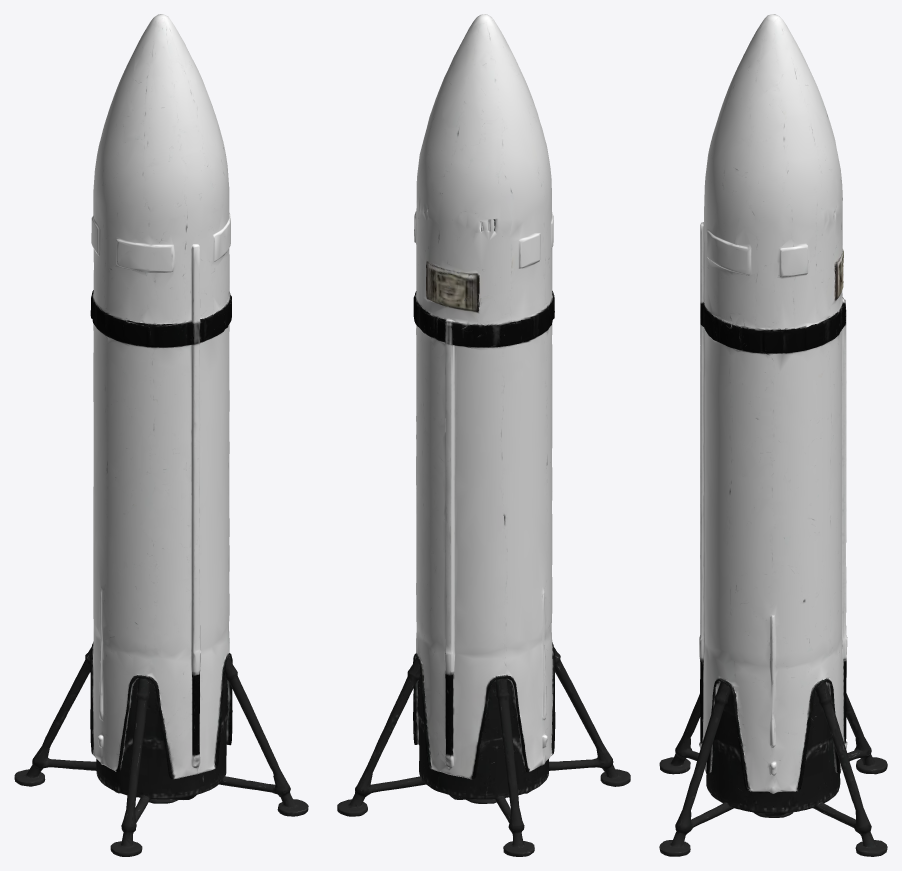
Rendered from starship_hls.glb.
3 renders of one model, left to right at view 1: azimuth 30°, elevation 25°; view 2: azimuth 150°, elevation 25°; view 3: azimuth 270°, elevation 25°, orthographic.
Parts seen in each view (by area): view 1: world; view 2: world; view 3: world.
Boxes of the visible parts, x1,y1,x2,y2 form: world: (14,14,308,856); world: (337,14,630,856); world: (659,14,887,856).
Size of the model in its own units: 0.2594 by 1 by 0.2607.
Materials: 1 (1 with a texture image).
